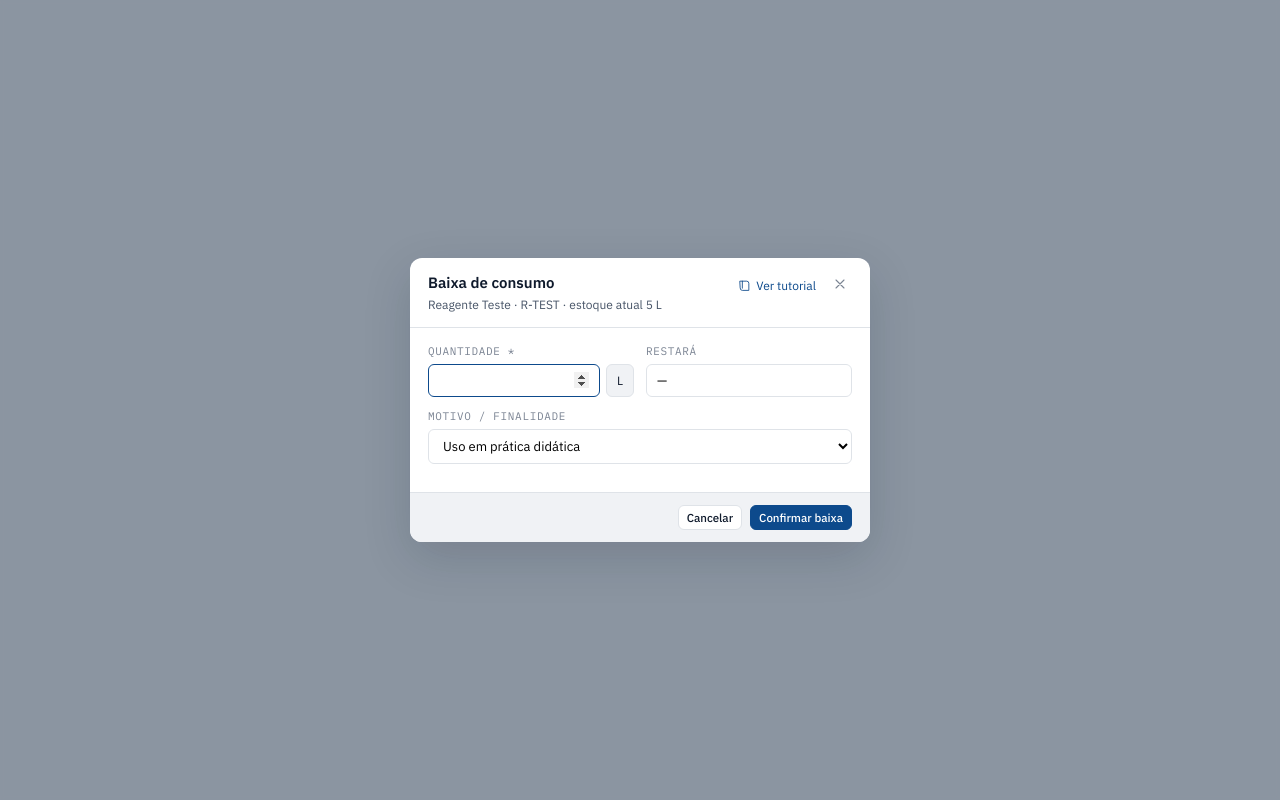
FormBaixa › limpa o erro quando a quantidade muda
This screenshot has width=1280, height=800.
Click the button "Confirmar baixa".
click(801, 518)  # box [750, 505, 852, 530]
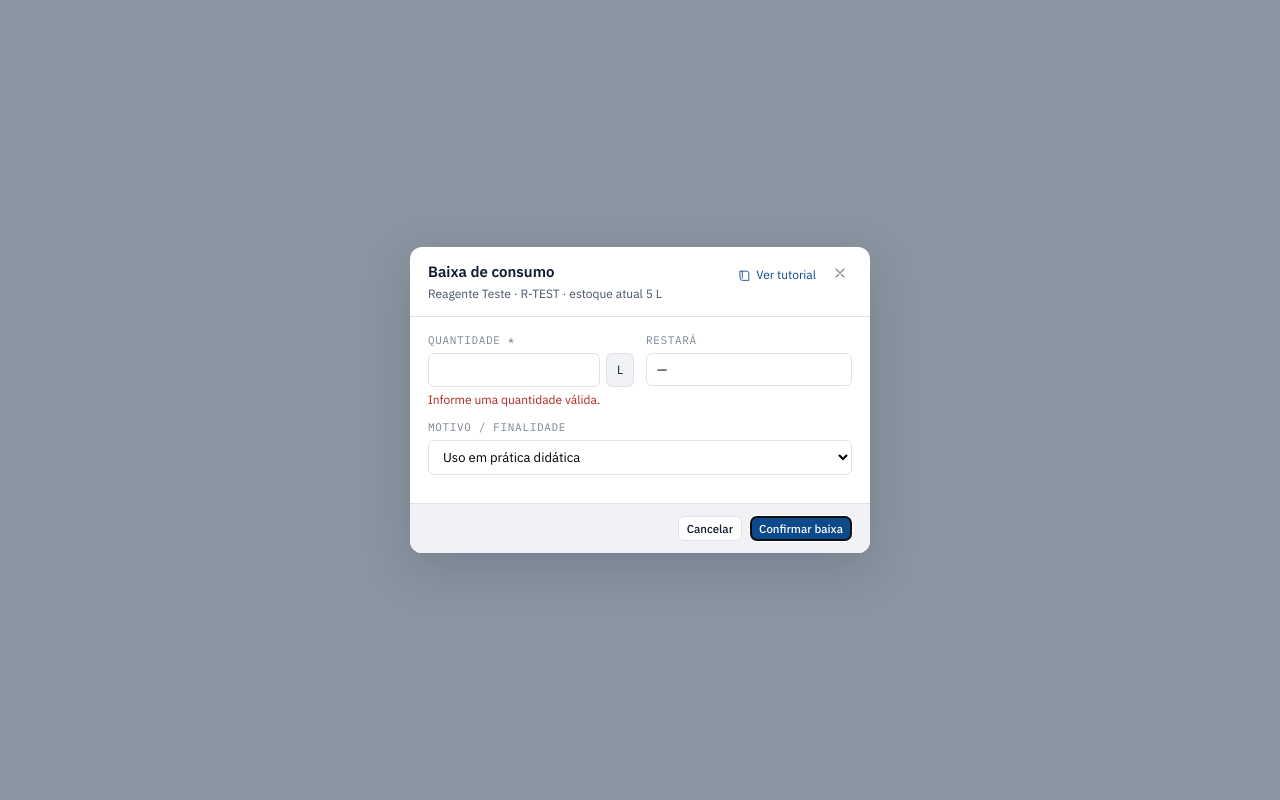
Now the text "Informe uma quantidade válida." is shown, box [428, 392, 600, 407]
Type "1" into the number field.
click(514, 370); type("1")  # box [428, 353, 600, 387]
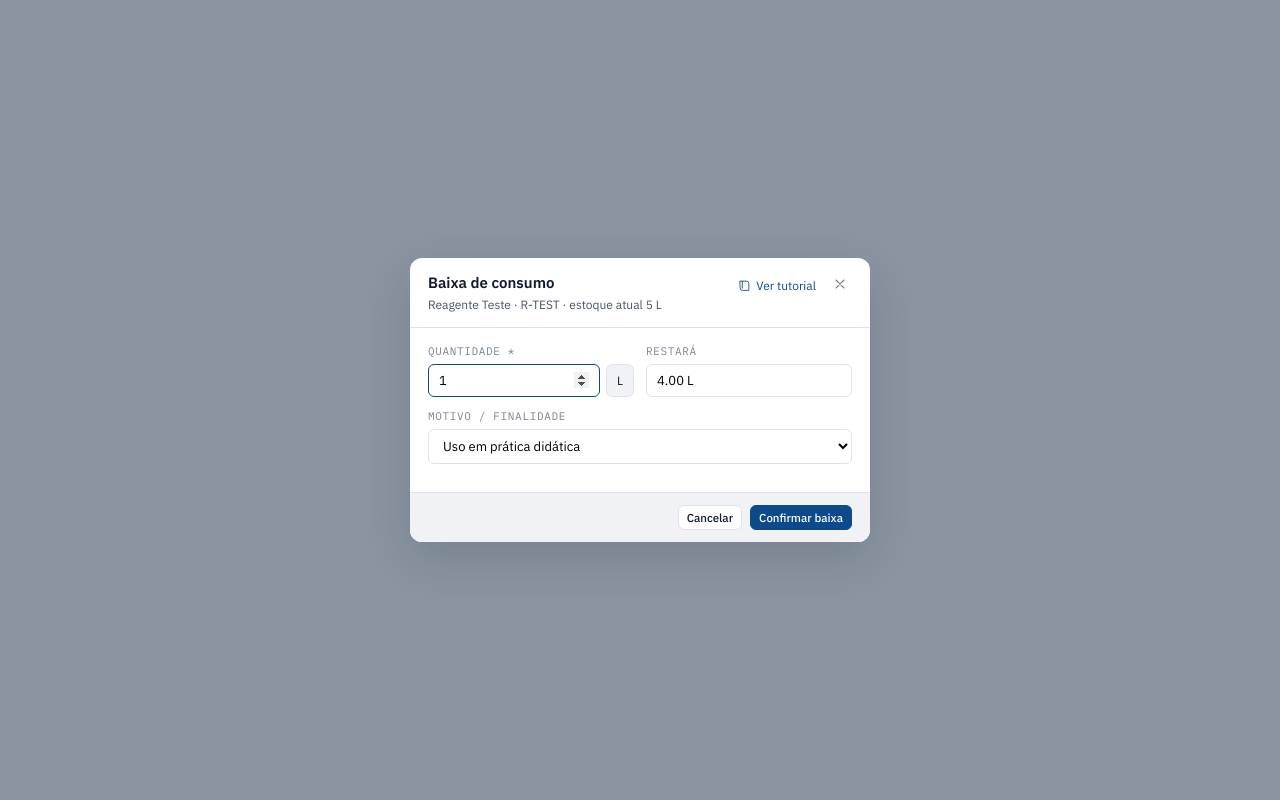
Now the text "Informe uma quantidade válida." is gone
